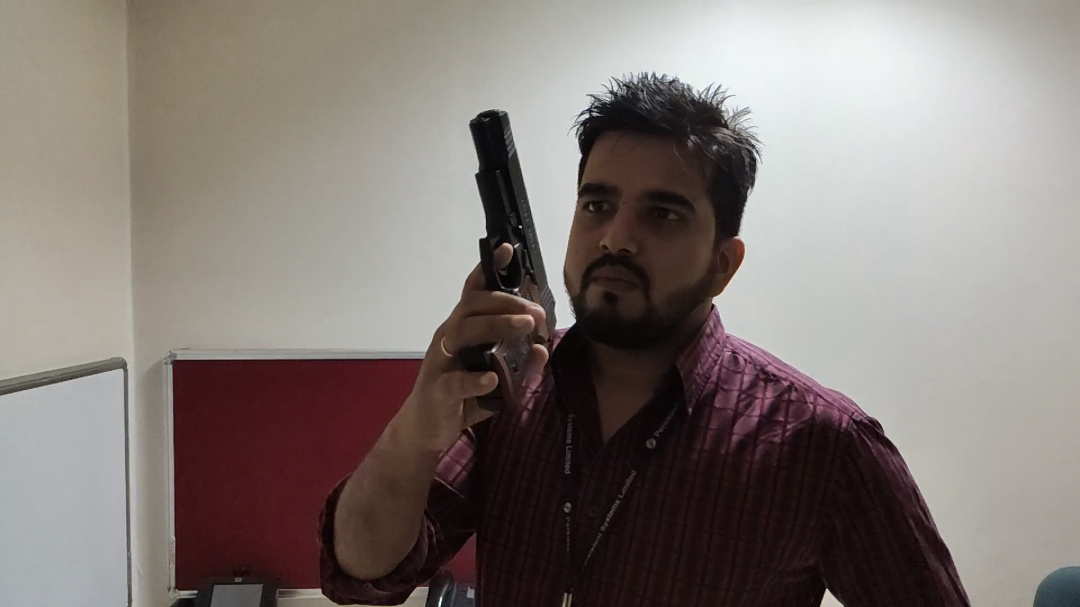gun: (461, 104, 561, 429)
